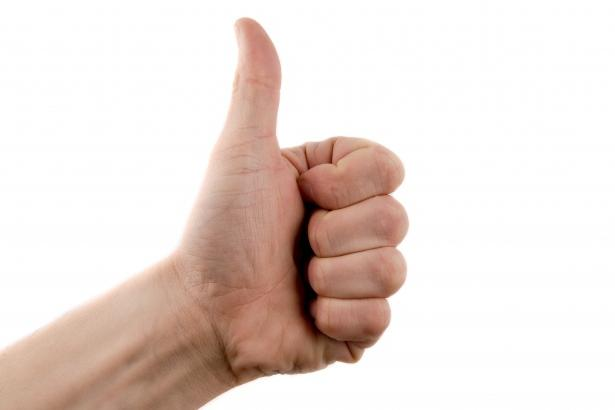thumbsup: (232, 15, 410, 372)
